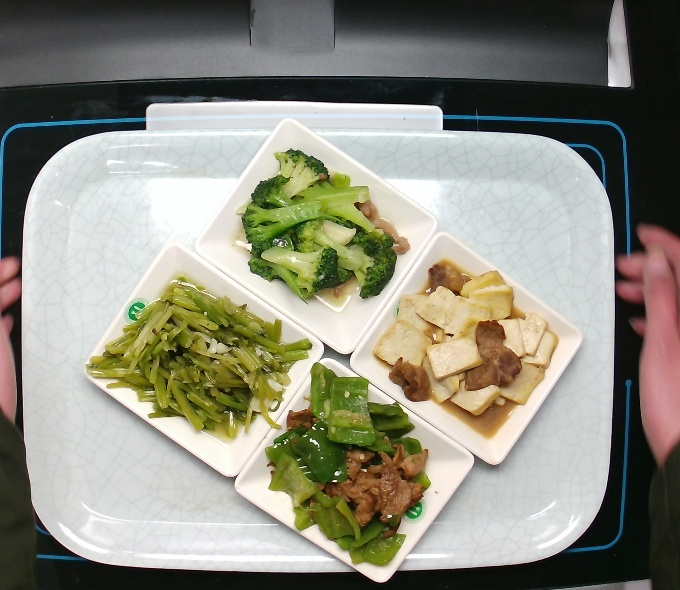wcq-DouFuRouPian: (365, 251, 571, 440)
wcq-QinCai: (86, 276, 320, 450)
wcq-QingJiaoChaoRou: (261, 357, 438, 575)
wcq-XiLanHua: (233, 144, 415, 308)
